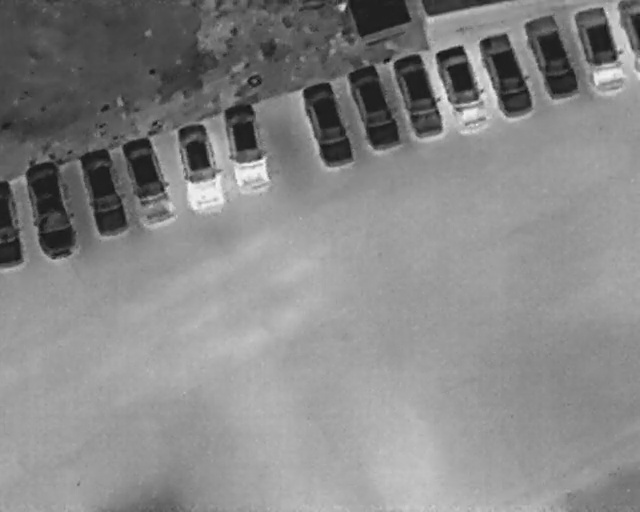Car: (16, 153, 89, 264), (427, 35, 498, 139), (470, 25, 542, 127), (113, 130, 183, 233), (516, 7, 586, 106), (566, 1, 634, 102), (169, 114, 233, 220), (214, 97, 279, 201), (294, 75, 360, 176), (342, 58, 408, 159), (72, 142, 135, 242), (387, 48, 450, 145), (0, 173, 26, 271), (617, 0, 639, 69)
